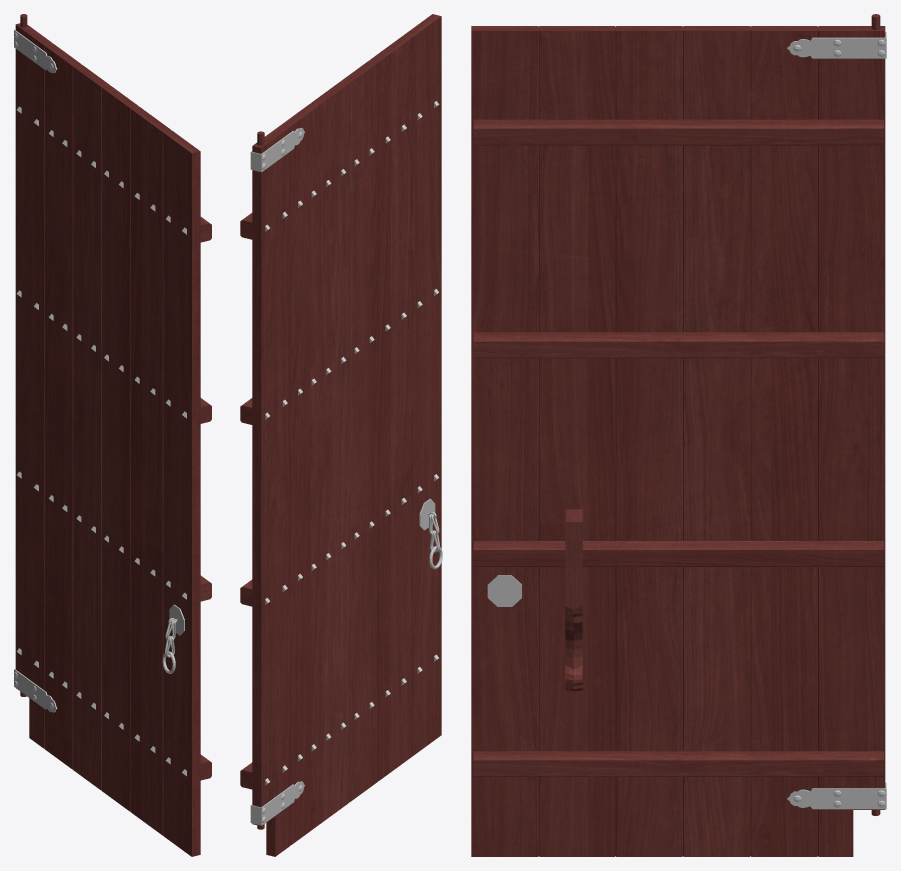
The model's file is SM_GateDoor01F.fbx.
The picture shows the model from 3 angles, left to right: view 1: azimuth 30°, elevation 25°; view 2: azimuth 150°, elevation 25°; view 3: azimuth 270°, elevation 25°; orthographic projection. The views are drawn at different scales.
Visible parts, largest first — view 1: SM_GateDoor01F; view 2: SM_GateDoor01F; view 3: SM_GateDoor01F.
Boxes of the visible parts, box(x1,y1,x2,y2) form: SM_GateDoor01F: box(14, 14, 211, 856); SM_GateDoor01F: box(240, 14, 442, 856); SM_GateDoor01F: box(471, 14, 886, 856).
Bounding box in the file's own units: 21.05 × 150 × 335.
